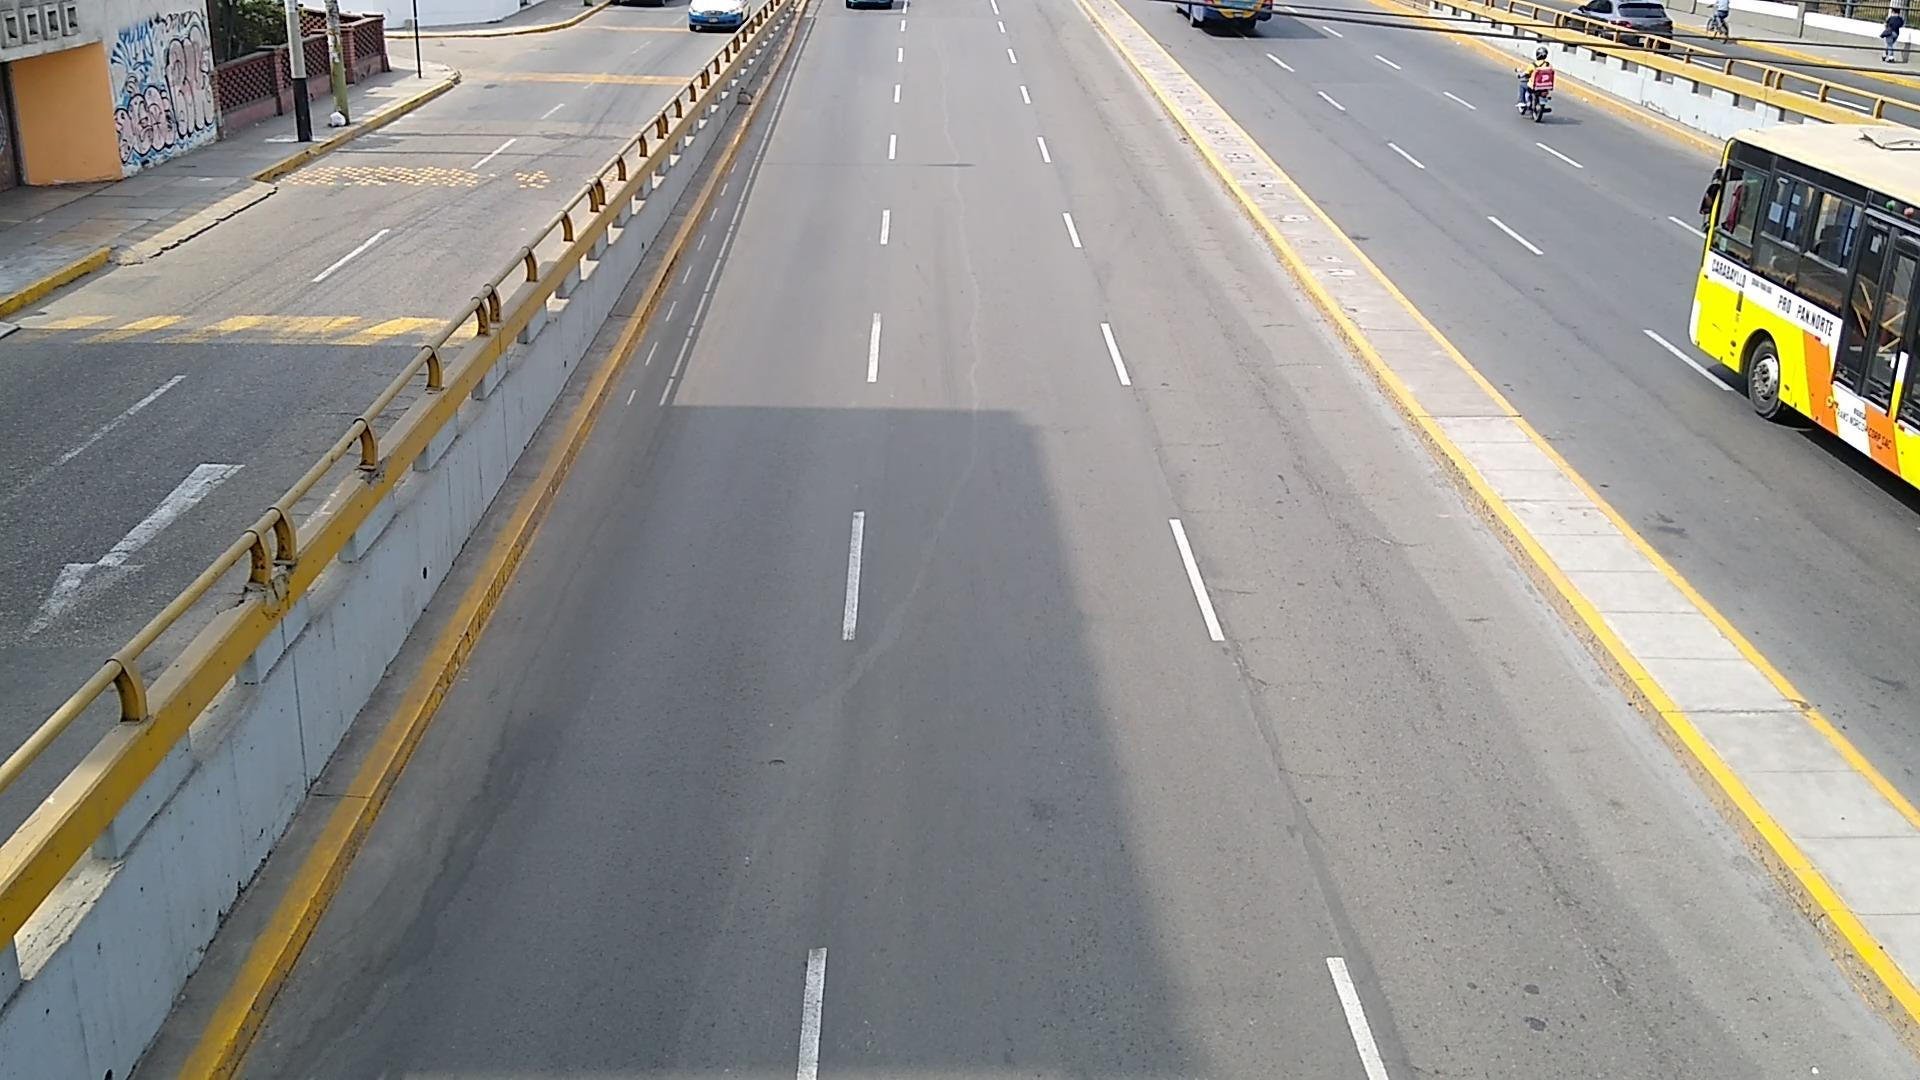bus: (1688, 116, 1920, 492)
car: (1568, 0, 1672, 45), (686, 0, 746, 30)
motorcyclist: (1519, 49, 1556, 120)
